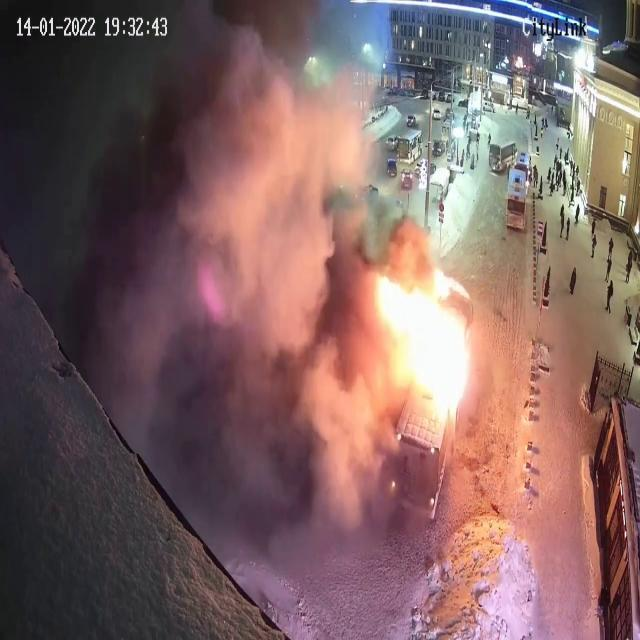Fire: (366, 251, 478, 426)
Smoke: (54, 0, 386, 541)
